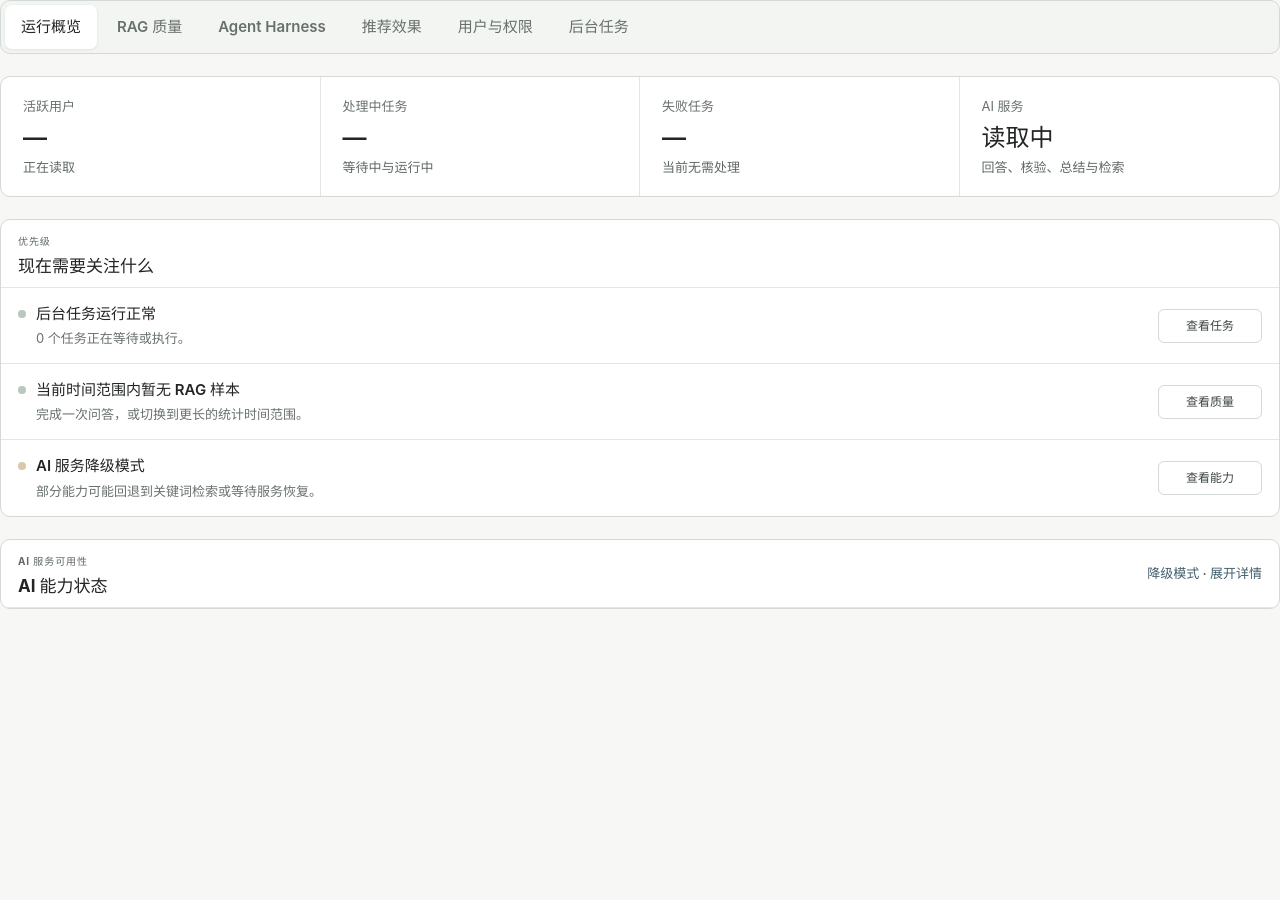
Test: AdminView 管理信息语义 › 停用前确认，并展示后端返回的具体禁止原因
Click the tab "用户与权限".
click(495, 27)  # box [442, 5, 549, 49]
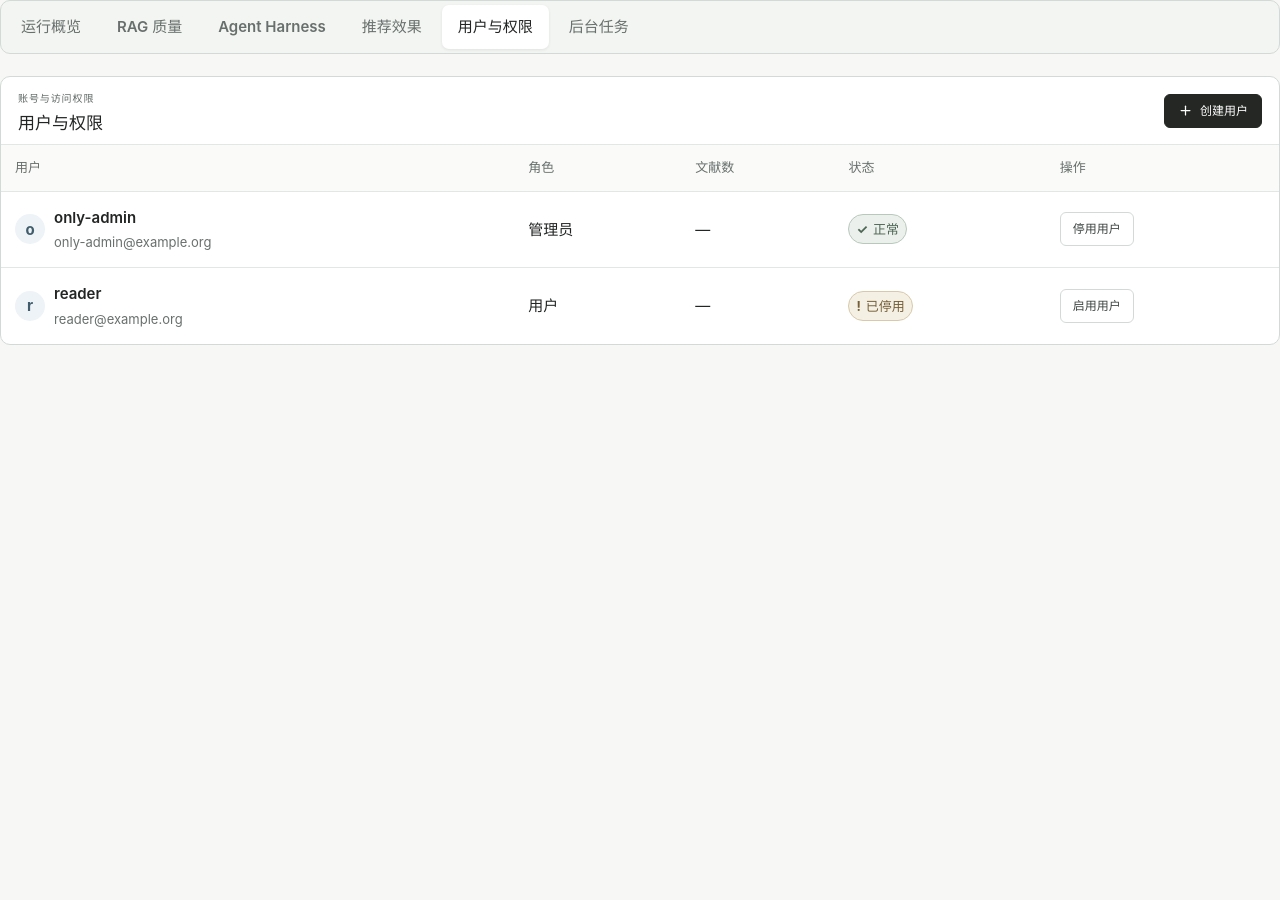
Click the button with aria-label "停用用户 only-admin".
click(1097, 229)  # box [1060, 212, 1134, 246]
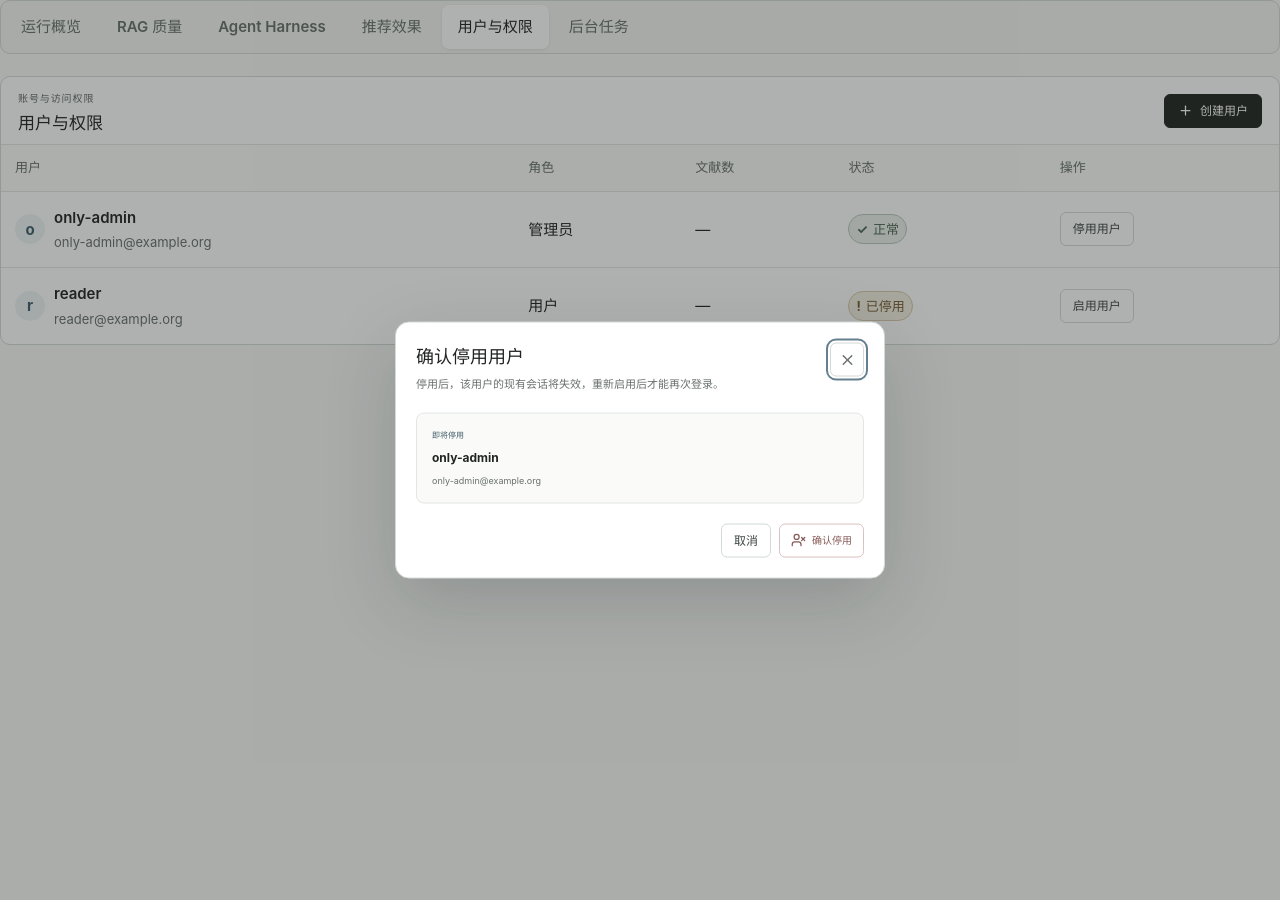
Check: the dialog "确认停用用户" shows "停用后，该用户的现有会话将失效", box [416, 376, 724, 390]
Click the button "确认停用".
click(822, 540)  # box [779, 524, 864, 558]
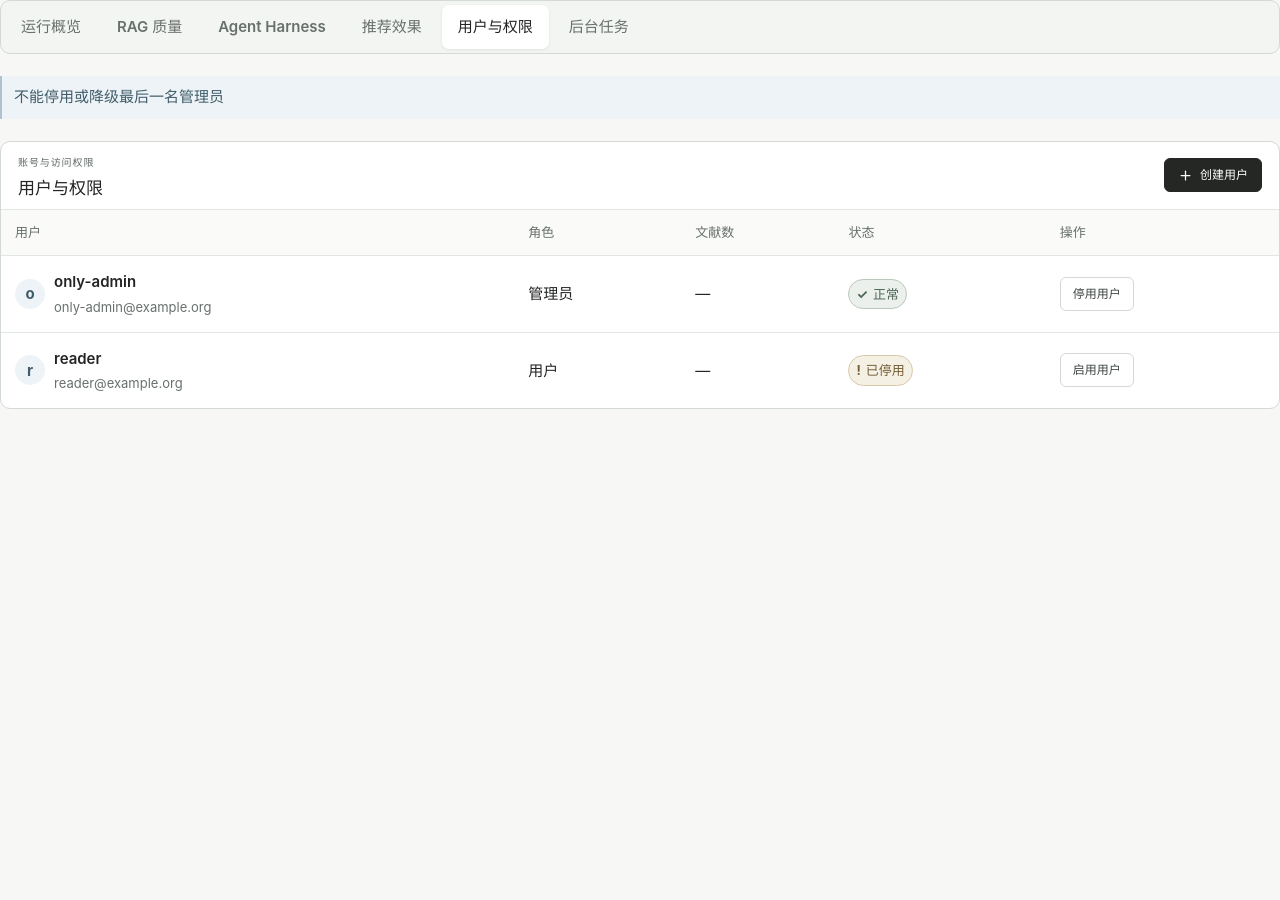
Check: the message reads "不能停用或降级最后一名管理员", box [14, 87, 224, 106]
